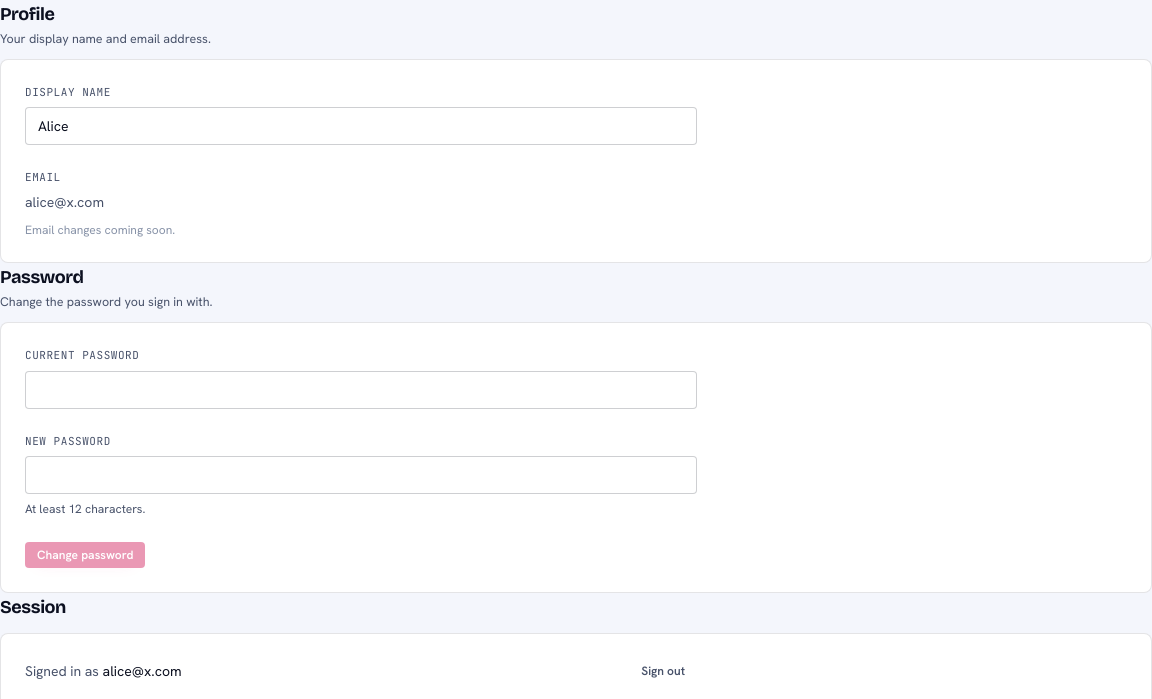
Test case: Account/Profile — password › says so when the current password is wrong
This screenshot has width=1152, height=699.
In the password field labelled "Current password": (361,390) [25,370,697,408], type "old-password"
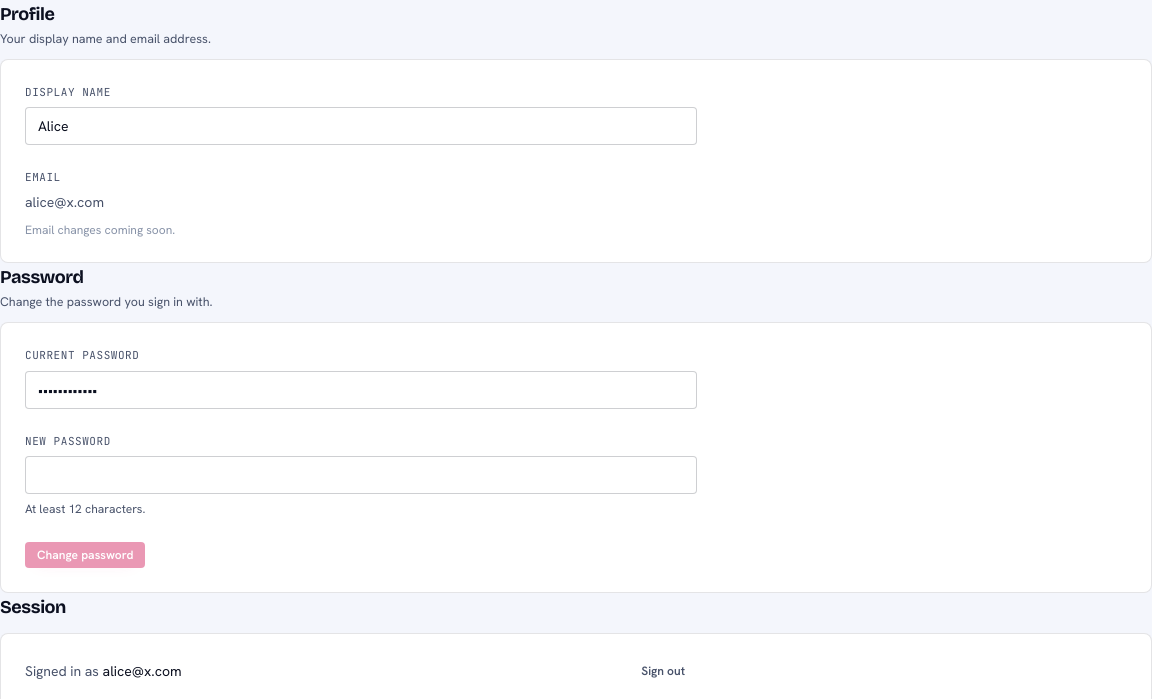
In the password field named "new password": (361,475) [25,456,697,494], type "a-much-longer-password"
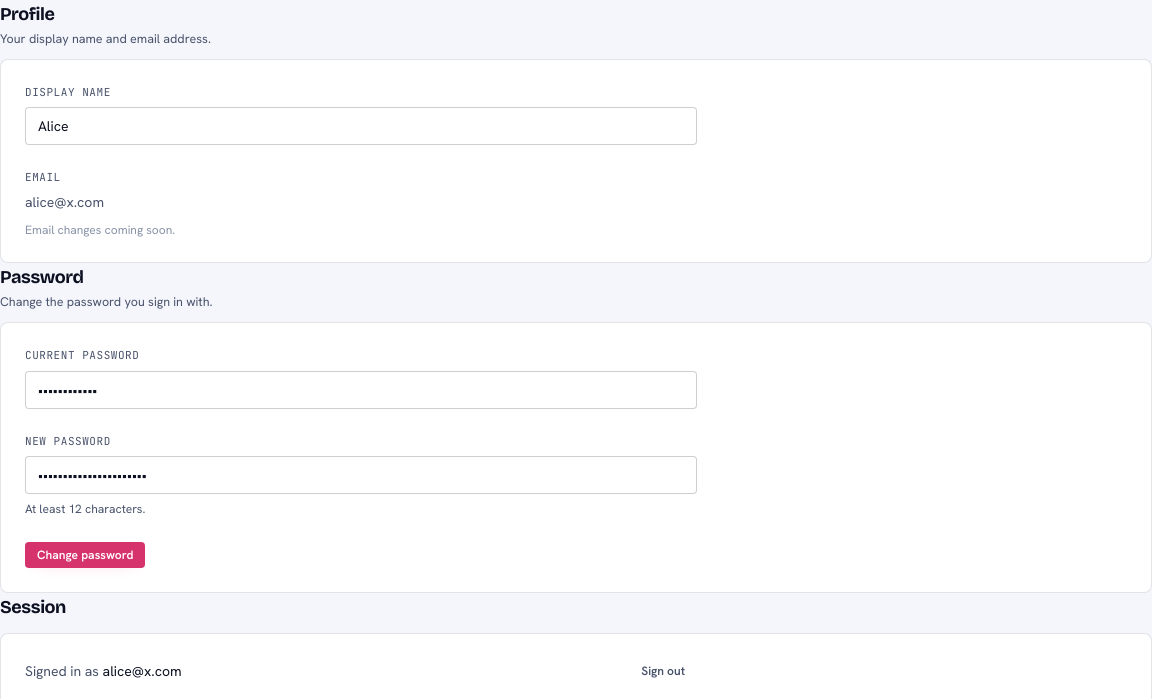
Click the button "Change password": (85,555) [25,542,145,568]
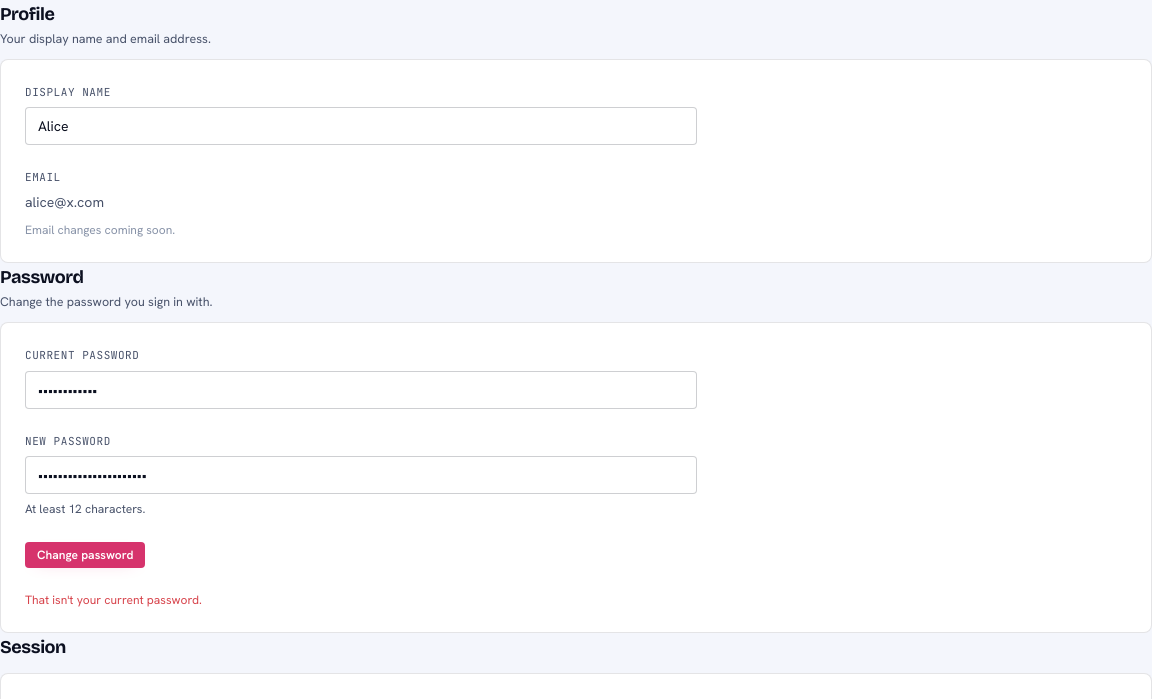
expect the text "That isn't your current password." is shown: met, box [25,592,202,608]
